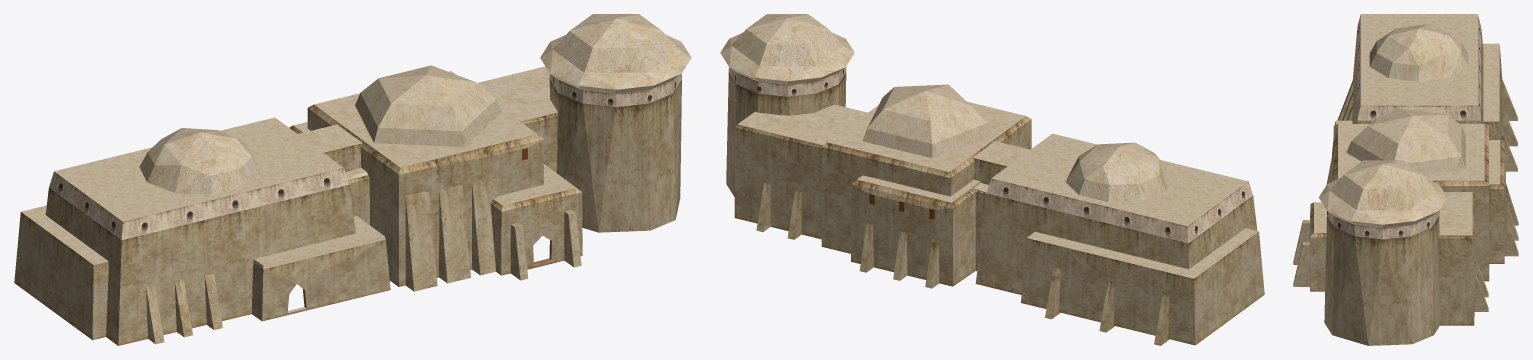
The model's file is thm_tato_block_bldg_64x32_s01_r0_exterior_mesh_exterior_l2.fbx.
3 renders of one model, left to right at view 1: azimuth 30°, elevation 25°; view 2: azimuth 150°, elevation 25°; view 3: azimuth 270°, elevation 25°, orthographic. The views are drawn at different scales.
Visible parts, largest first — view 1: mesh_node; view 2: mesh_node; view 3: mesh_node.
Part boxes in pixels (x1,y1,x2,y2): mesh_node: [14, 14, 691, 345]; mesh_node: [720, 14, 1264, 345]; mesh_node: [1293, 14, 1518, 345].
Size of the model in its own units: 67.95 by 20.62 by 26.2.
